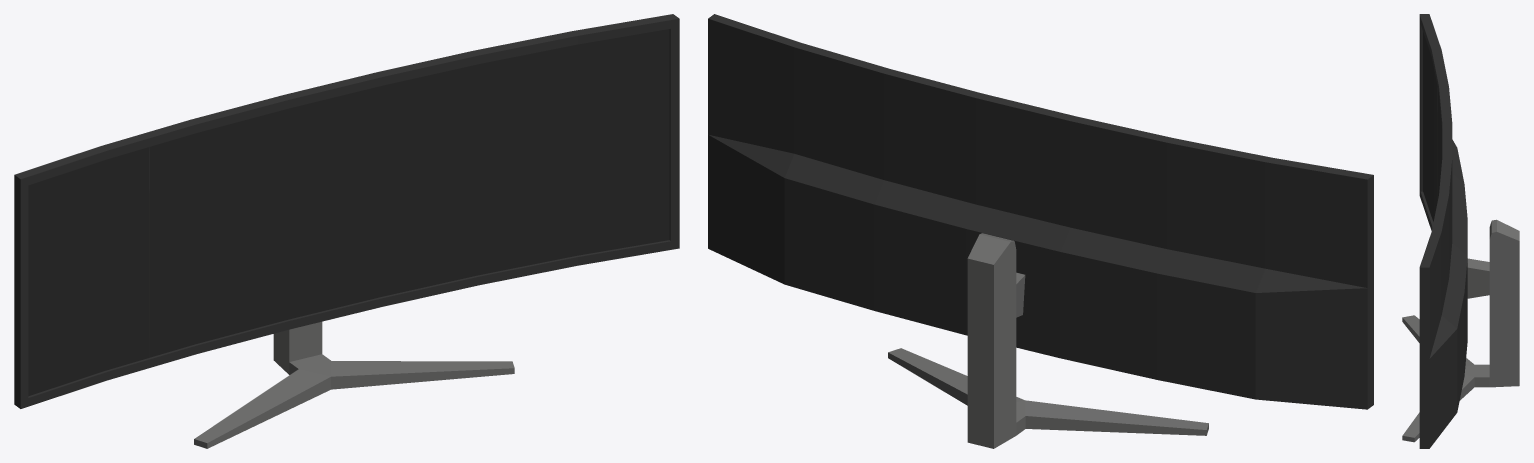
File: SM_Props_Interior_Shop_Electronic_Monitor_05.fbx
3 views of the same model, side by side, from view 1: azimuth 30°, elevation 25°; view 2: azimuth 150°, elevation 25°; view 3: azimuth 270°, elevation 25° (orthographic). The views are drawn at different scales.
Parts seen in each view (by area): view 1: SM_Props_Interior_Shop_Electronic_Monitor_05; view 2: SM_Props_Interior_Shop_Electronic_Monitor_05; view 3: SM_Props_Interior_Shop_Electronic_Monitor_05.
Boxes of the visible parts, bbox=[...] form: SM_Props_Interior_Shop_Electronic_Monitor_05: bbox=[14, 14, 679, 448]; SM_Props_Interior_Shop_Electronic_Monitor_05: bbox=[708, 14, 1373, 448]; SM_Props_Interior_Shop_Electronic_Monitor_05: bbox=[1402, 14, 1519, 448].
Bounding box in the file's own units: 120 × 53 × 23.41.
